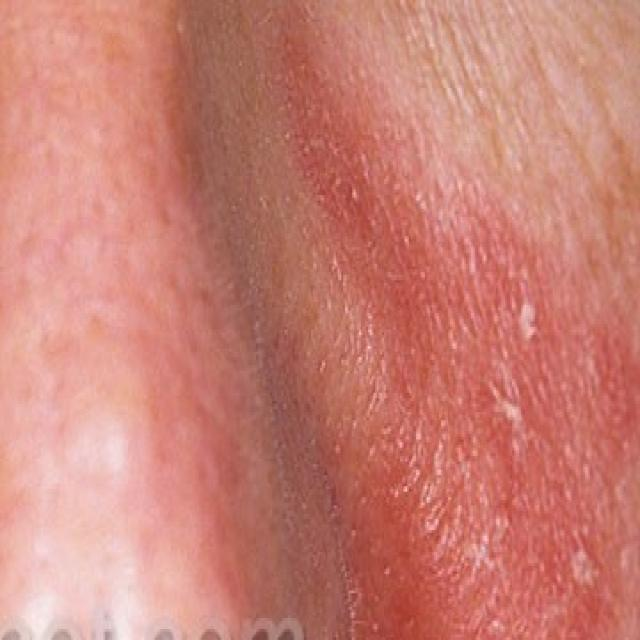Rosacea: (309, 148, 578, 493)
